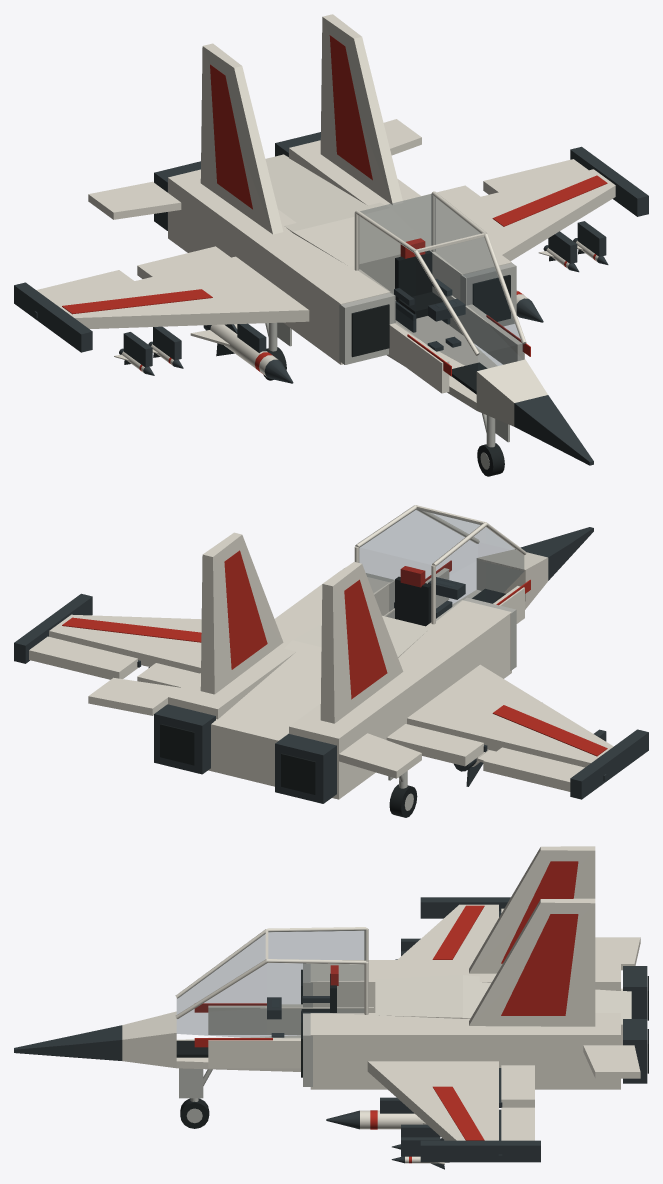
3 renders of one model, top to bottom at view 1: azimuth 30°, elevation 25°; view 2: azimuth 150°, elevation 25°; view 3: azimuth 270°, elevation 25°, orthographic. The views are drawn at different scales.
Parts seen in each view (by area): view 1: jet-b-fleet-armor, jet-b-fleet-glass, jet-b-fleet-machine, jet-b-fleet-red, crew-chair-pilot-painted, jet-b-fleet-rubber, jet-b-fleet-edge, elevator-left-fleet-armor, store-left-large-painted, aileron-right-painted, flap-left-painted, aileron-left-painted (+2 smaller); view 2: jet-b-fleet-armor, jet-b-fleet-glass, jet-b-fleet-machine, jet-b-fleet-red, aileron-right-painted, jet-b-fleet-rubber, crew-chair-pilot-painted, aileron-left-painted, flap-left-painted, elevator-left-fleet-armor, elevator-right-fleet-armor, flap-right-painted (+3 smaller); view 3: jet-b-fleet-armor, jet-b-fleet-glass, jet-b-fleet-machine, jet-b-fleet-red, elevator-right-fleet-armor, flap-right-painted, store-right-large-painted, aileron-right-painted, crew-chair-pilot-painted, elevator-left-fleet-armor, jet-b-fleet-edge, landing-gear-nose-painted (+2 smaller).
Boxes of the visible parts, x1,y1,x2,y2 form: jet-b-fleet-armor: [52, 14, 615, 426]; jet-b-fleet-glass: [358, 194, 523, 371]; jet-b-fleet-machine: [14, 132, 648, 465]; jet-b-fleet-red: [62, 35, 607, 375]; crew-chair-pilot-painted: [394, 238, 465, 351]; jet-b-fleet-rubber: [351, 275, 510, 394]; jet-b-fleet-edge: [339, 263, 516, 364]; elevator-left-fleet-armor: [88, 181, 181, 219]; store-left-large-painted: [190, 324, 293, 383]; aileron-right-painted: [483, 159, 588, 194]; flap-left-painted: [137, 246, 230, 278]; aileron-left-painted: [34, 270, 134, 318]; jet-b-fleet-armor: [49, 505, 613, 799]; jet-b-fleet-glass: [359, 509, 523, 625]; jet-b-fleet-machine: [14, 527, 648, 803]; jet-b-fleet-red: [62, 550, 607, 756]; aileron-right-painted: [29, 636, 141, 679]; jet-b-fleet-rubber: [160, 589, 505, 794]; crew-chair-pilot-painted: [394, 566, 465, 626]; aileron-left-painted: [483, 747, 606, 791]; flap-left-painted: [386, 724, 487, 766]; elevator-left-fleet-armor: [339, 733, 421, 778]; elevator-right-fleet-armor: [88, 677, 179, 715]; flap-right-painted: [137, 663, 199, 687]; jet-b-fleet-armor: [122, 846, 631, 1140]; jet-b-fleet-glass: [177, 930, 365, 1037]; jet-b-fleet-machine: [14, 897, 647, 1162]; jet-b-fleet-red: [194, 861, 578, 1140]; elevator-right-fleet-armor: [583, 1045, 640, 1078]; flap-right-painted: [499, 1065, 534, 1107]; store-right-large-painted: [326, 1110, 440, 1136]; aileron-right-painted: [498, 1107, 534, 1160]; crew-chair-pilot-painted: [267, 965, 338, 1037]; elevator-left-fleet-armor: [595, 937, 640, 970]; jet-b-fleet-edge: [303, 963, 312, 1086]; landing-gear-nose-painted: [179, 1068, 212, 1101].
Bounding box in the file's own units: 50.89 × 23.94 × 54.74.
